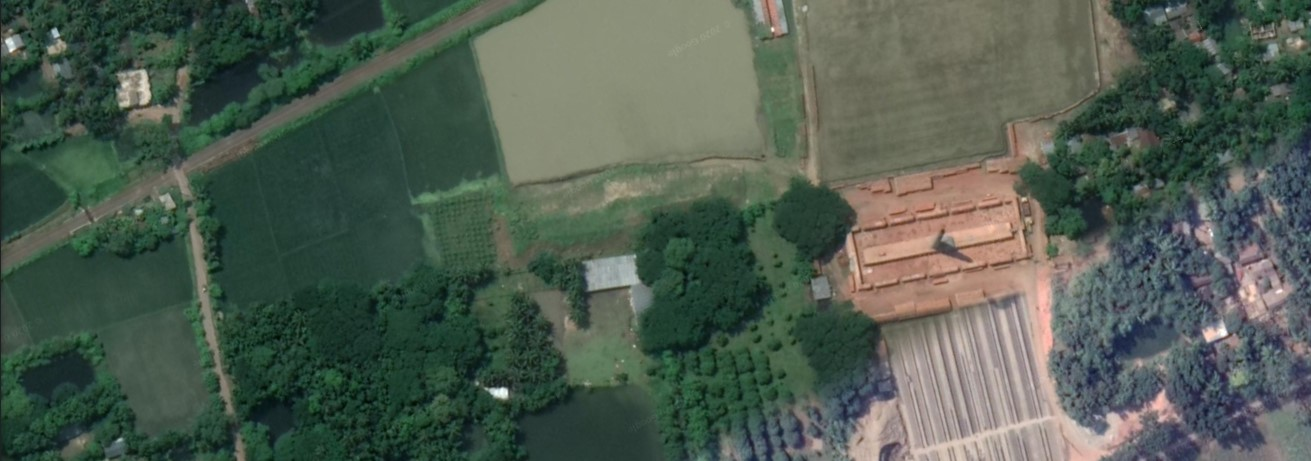kiln: (861, 193, 1021, 298)
